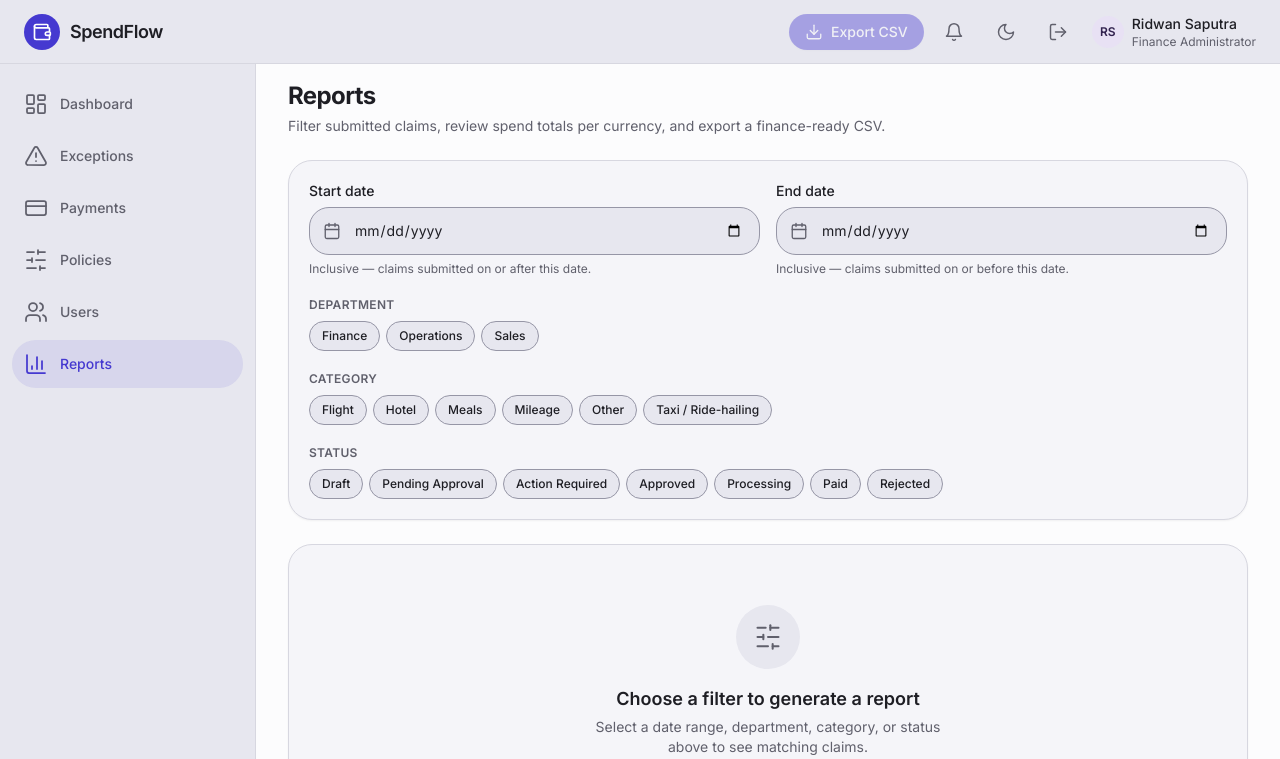
Reports page — combinable filters › filters by a single status chip (Paid)
Expected: the heading "Choose a filter to generate a report" is shown, [616,685,920,713]
Click the button "Paid": coordinates (836, 484) [810,469,861,499]
(page scrolled)
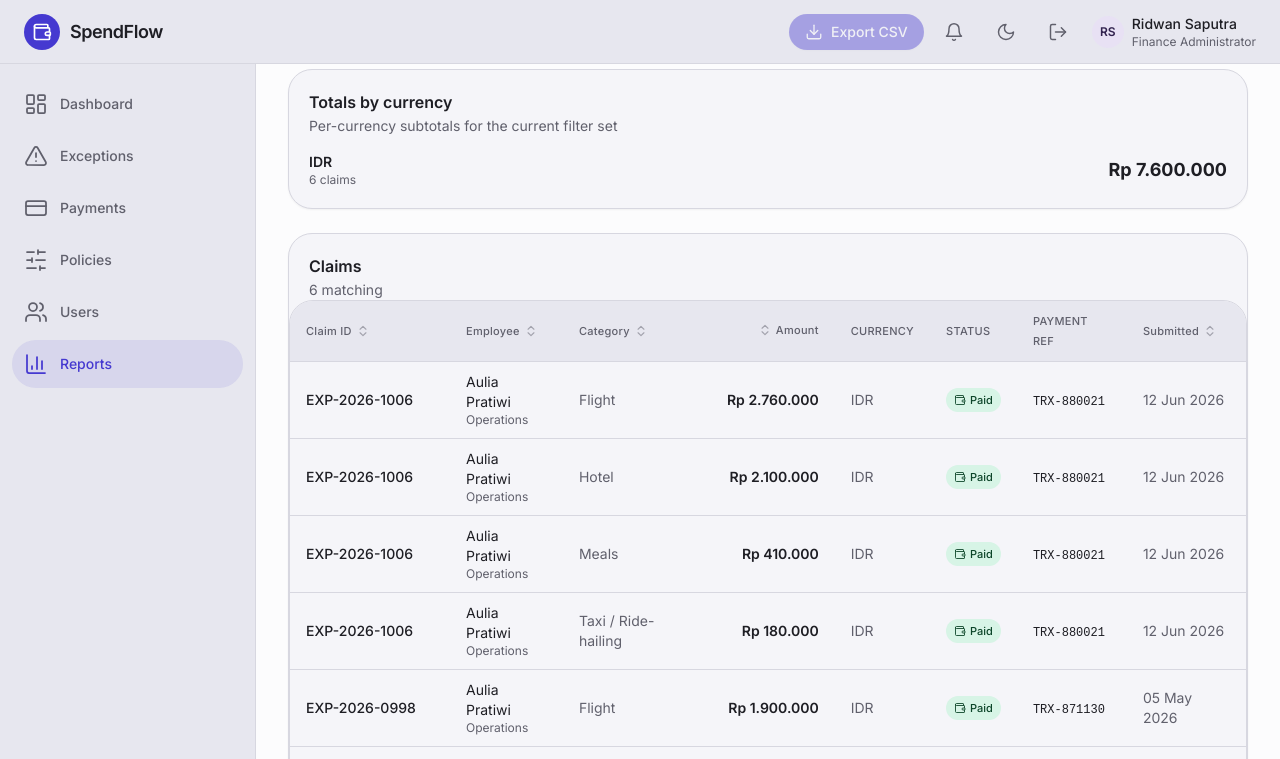
Result: the text "EXP-2026-1006" in the row of "Rp 2.760.000" is shown at [306,391,413,408]
